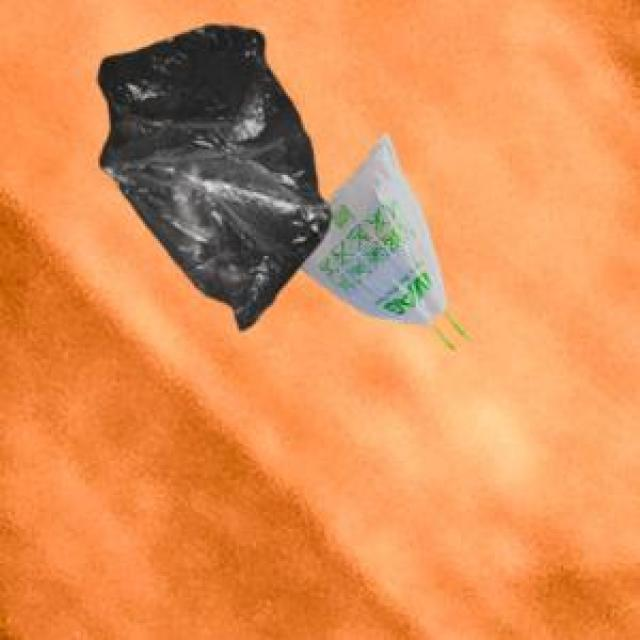waste: (99, 25, 444, 328)
